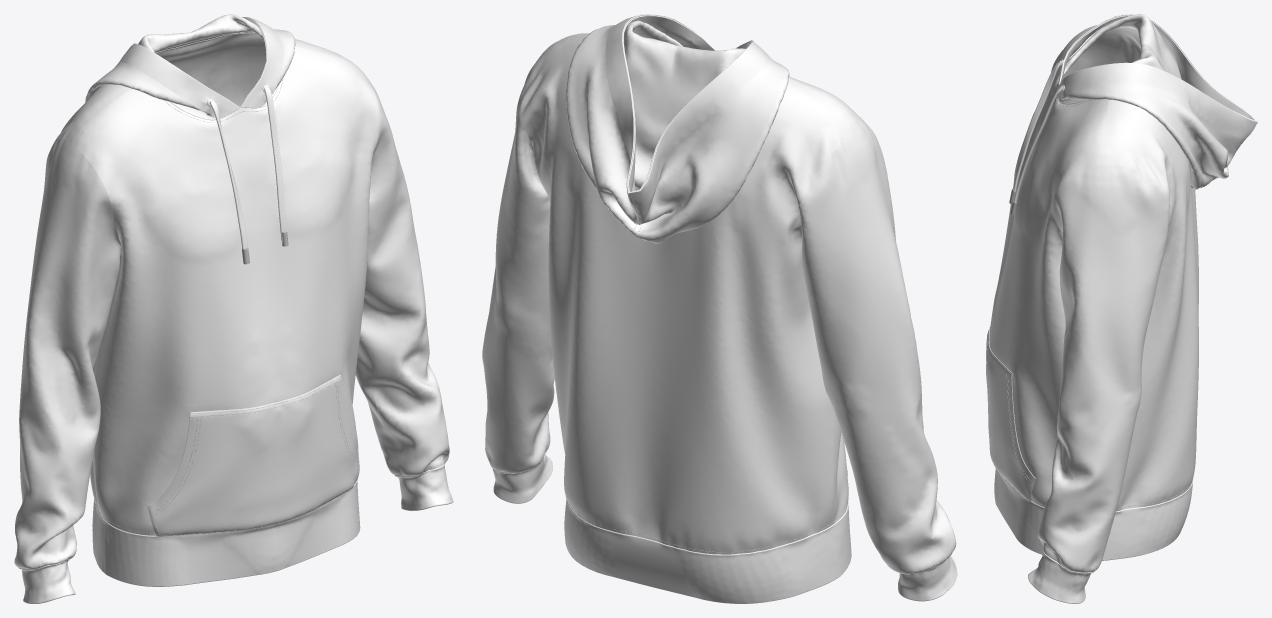
File: hood.glb
3 views of the same model, side by side, from view 1: azimuth 30°, elevation 25°; view 2: azimuth 150°, elevation 25°; view 3: azimuth 270°, elevation 25° (orthographic). The views are drawn at different scales.
Visible parts, largest first — view 1: Cloth; view 2: Cloth; view 3: Cloth.
Part boxes in pixels (box(x1,y1,x2,y2)): Cloth: box(14, 14, 453, 603); Cloth: box(482, 14, 957, 603); Cloth: box(986, 14, 1257, 603).
Bounding box in the file's own units: 0.6456 × 0.7216 × 0.3747.
7 materials, 1 textured.
